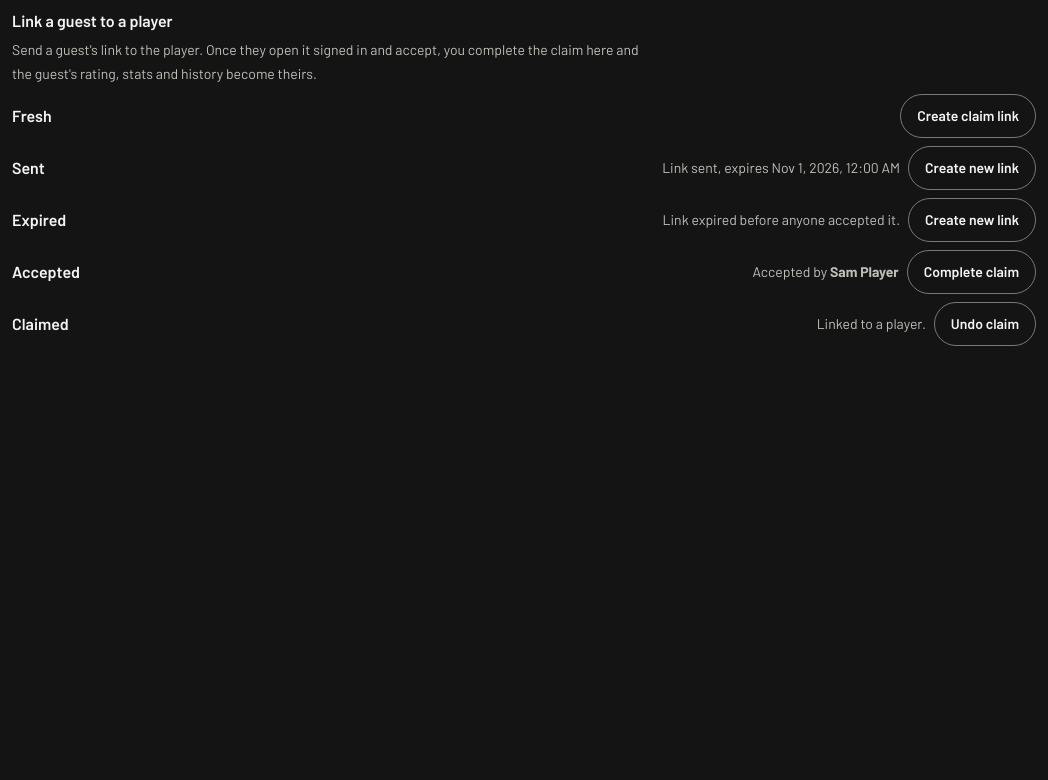
Test: GuestClaims › reveals a new link once, re-reads the list, and drops the link when dismissed
Click the button "Create claim link". click: point(968, 116)
box: [900,94,1036,138]
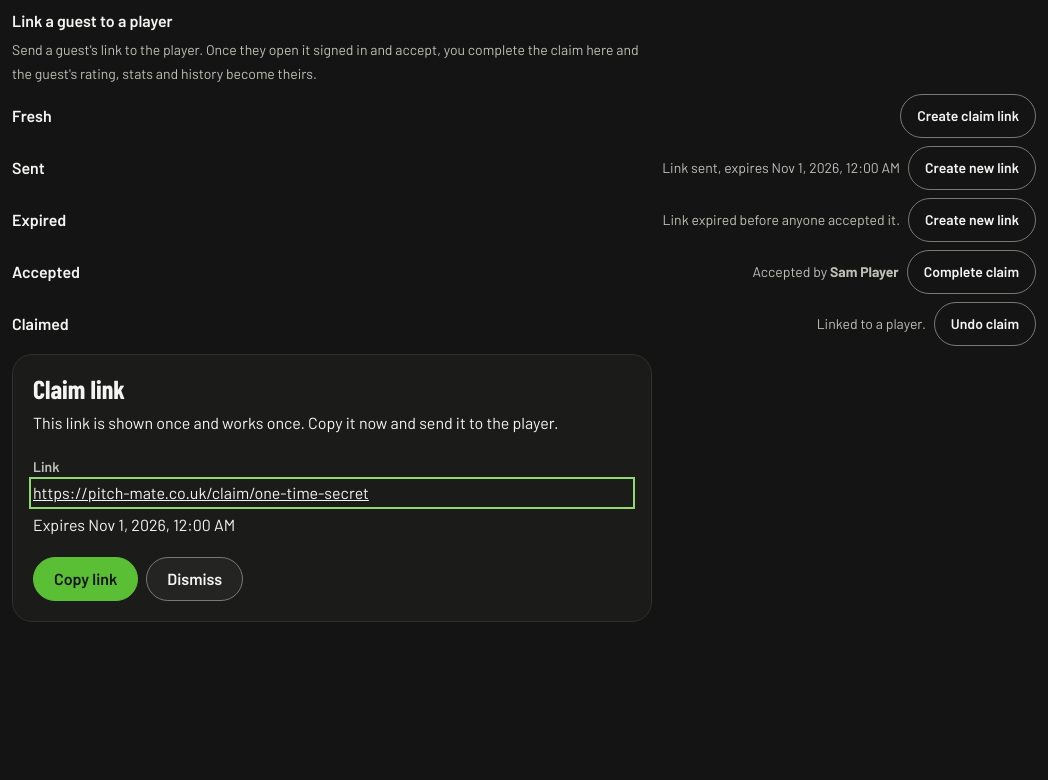
Result: the link "https://pitch-mate.co.uk/claim/one-time-secret" is shown at [33,483,369,502]
Click the button "Dismiss". click: point(195, 579)
box: [146,557,243,601]
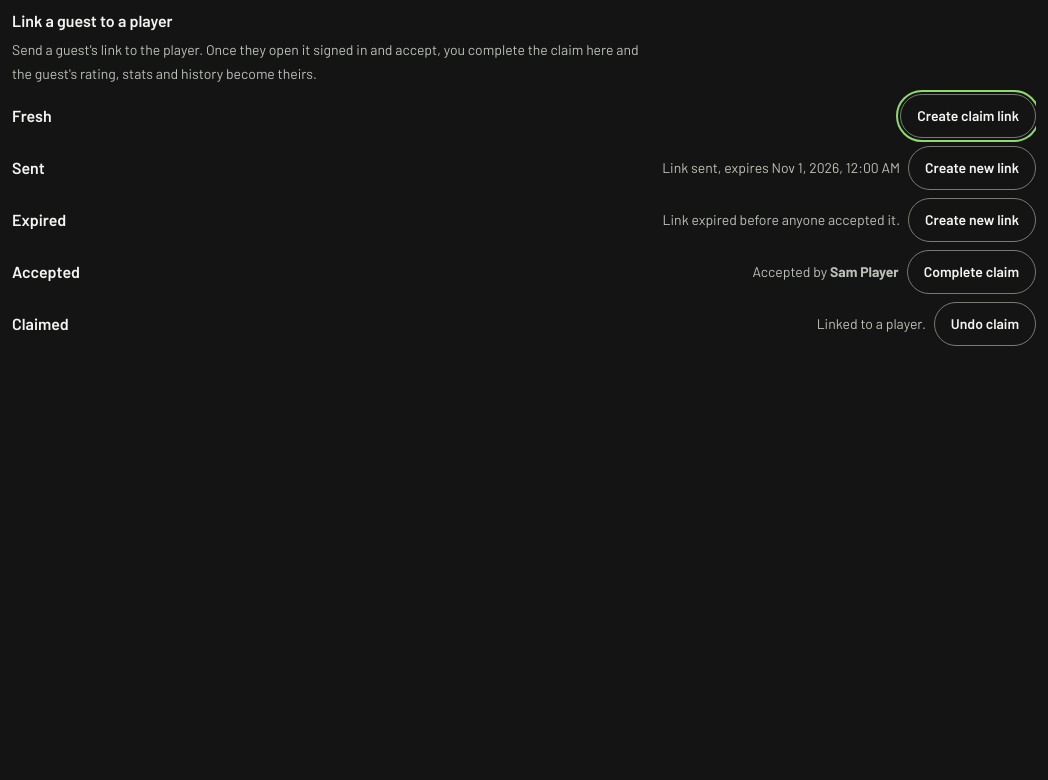
Result: the link "https://pitch-mate.co.uk/claim/one-time-secret" is gone
